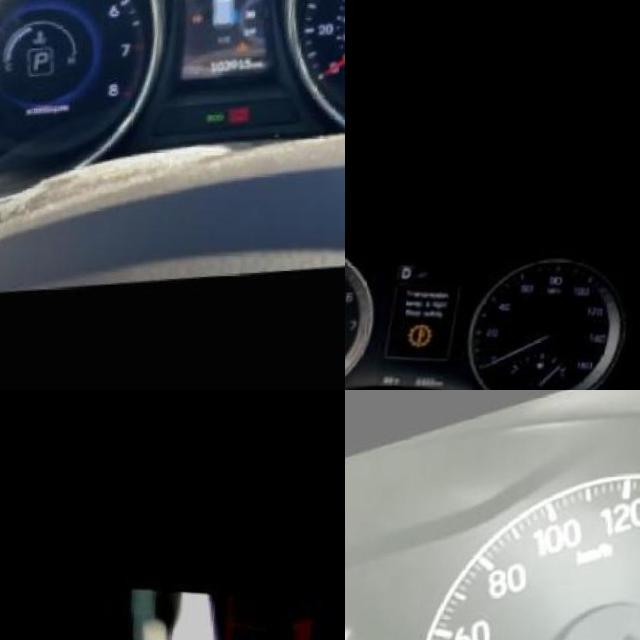Low fuel level: (547, 362, 553, 368)
